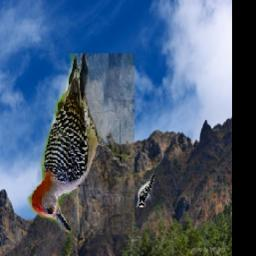Woodpecker: (23, 53, 134, 234), (136, 173, 155, 208)
